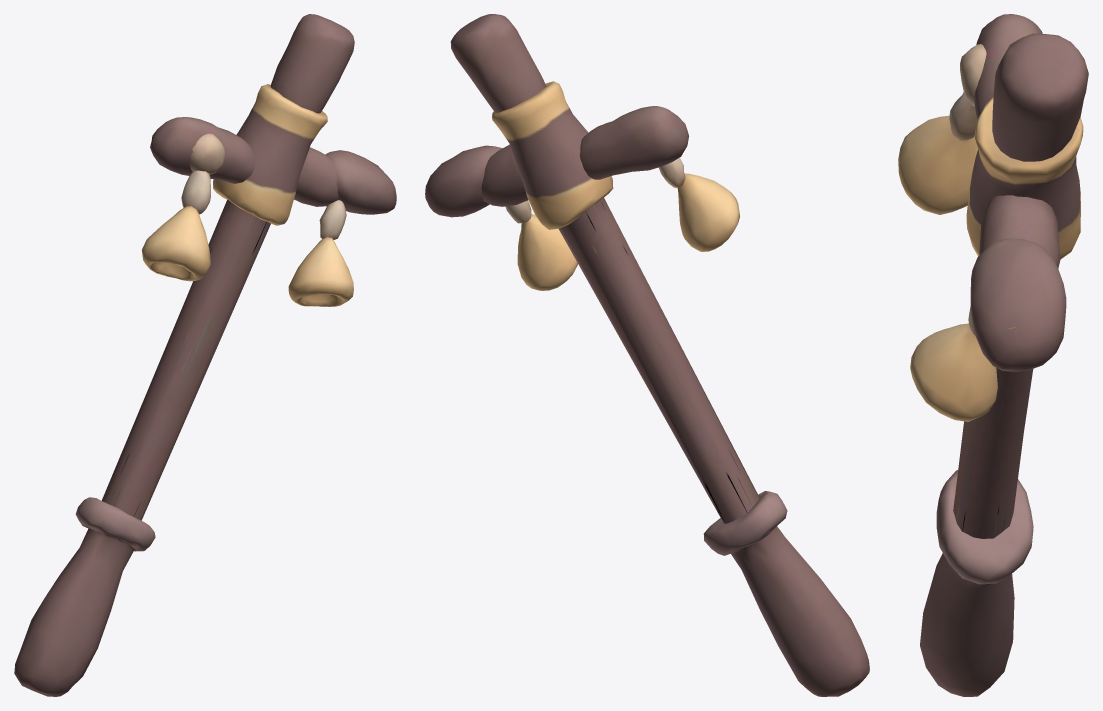
The model's file is cruz_santa.glb.
3 renders of one model, left to right at view 1: azimuth 30°, elevation 25°; view 2: azimuth 150°, elevation 25°; view 3: azimuth 270°, elevation 25°, orthographic. The views are drawn at different scales.
Parts seen in each view (by area): view 1: reliquia_3; view 2: reliquia_3; view 3: reliquia_3.
Part boxes in pixels (x1,y1,x2,y2): reliquia_3: (14, 14, 396, 696); reliquia_3: (425, 14, 869, 696); reliquia_3: (898, 14, 1088, 696).
Size of the model in its own units: 0.317 by 0.454 by 0.0905.
Materials: 1 (1 with a texture image).
